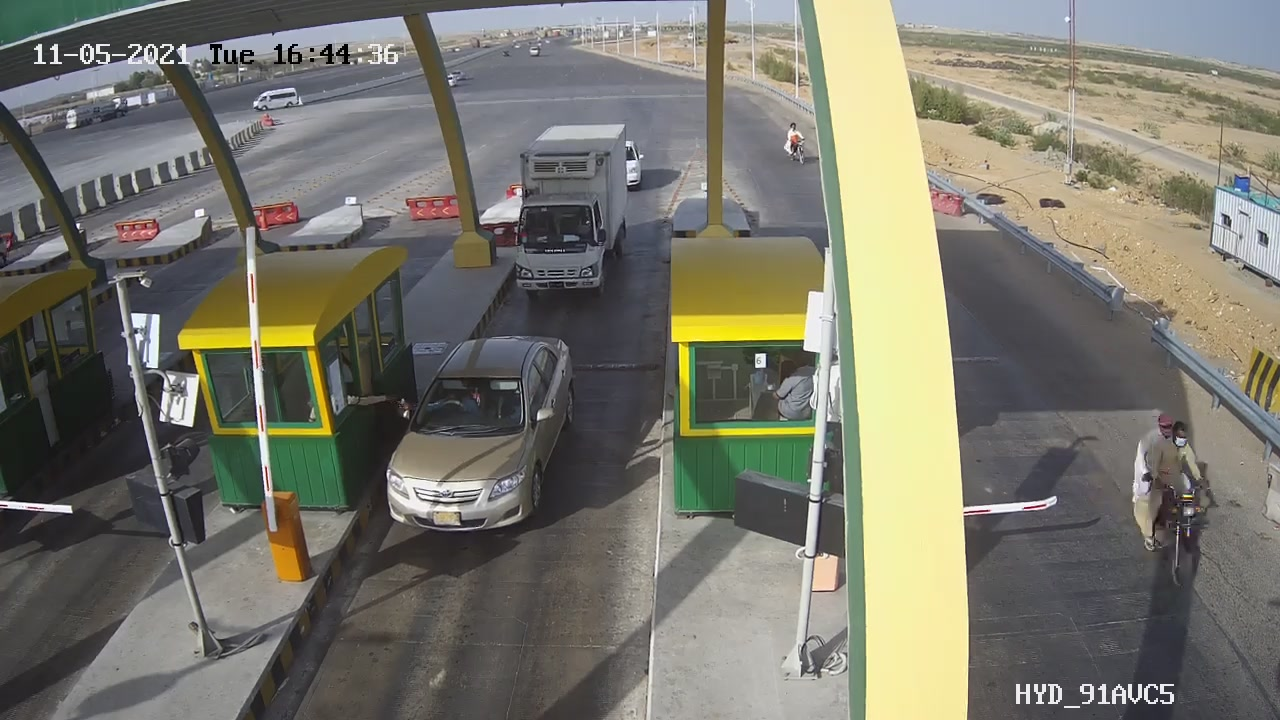F1: (358, 320, 603, 558)
F5: (502, 111, 645, 297)
